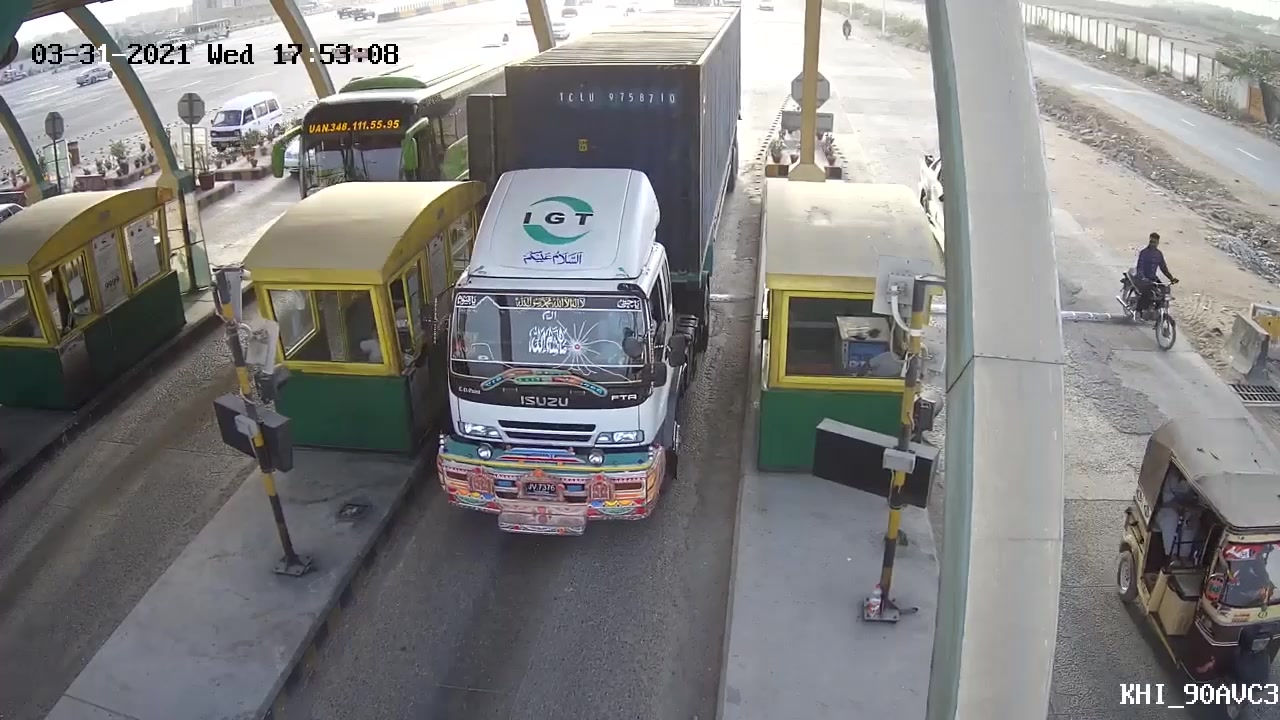F6: (418, 35, 739, 543)
